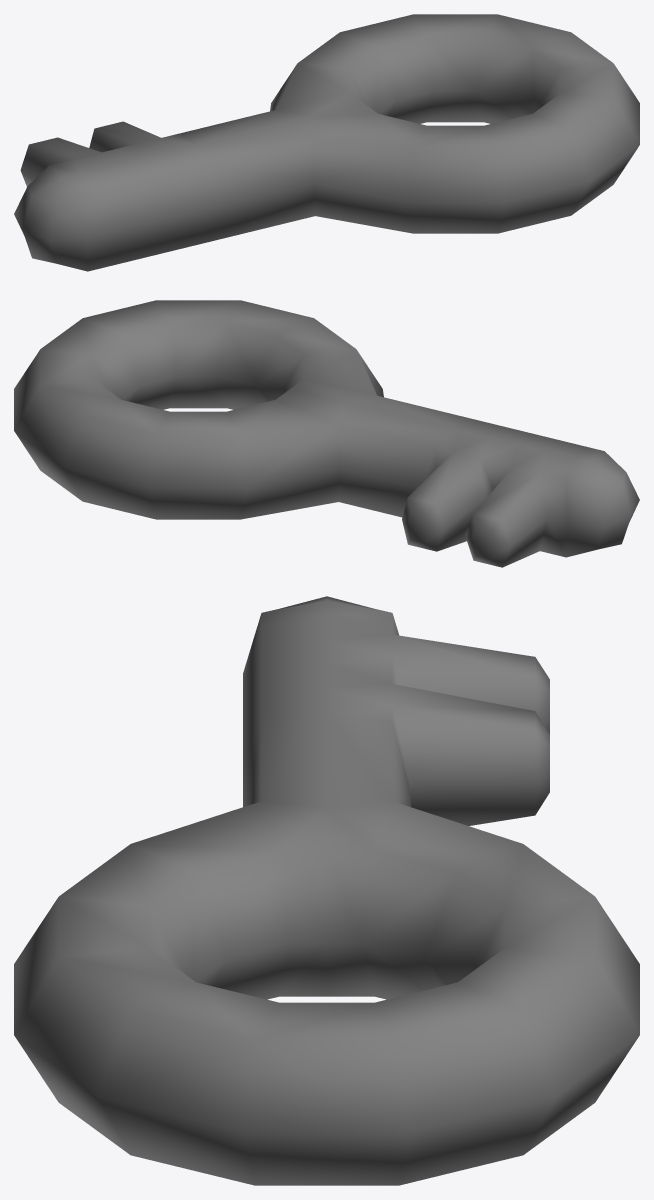
The model's file is SM_Key_01.obj.
3 views of the same model, one above another, from view 1: azimuth 30°, elevation 25°; view 2: azimuth 150°, elevation 25°; view 3: azimuth 270°, elevation 25° (orthographic). The views are drawn at different scales.
Parts seen in each view (by area): view 1: SM_Key_01_Mat_SwatchOverlay_Emissive; view 2: SM_Key_01_Mat_SwatchOverlay_Emissive; view 3: SM_Key_01_Mat_SwatchOverlay_Emissive.
Part boxes in pixels (x1,y1,x2,y2): SM_Key_01_Mat_SwatchOverlay_Emissive: (14, 14, 639, 271); SM_Key_01_Mat_SwatchOverlay_Emissive: (14, 300, 639, 567); SM_Key_01_Mat_SwatchOverlay_Emissive: (14, 596, 639, 1185).
Bounding box in the file's own units: 0.251 × 0.0346 × 0.1352.
1 material, 1 textured.
